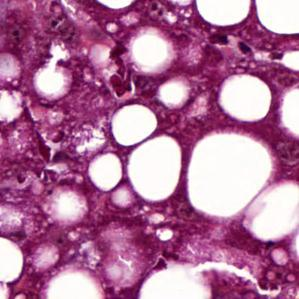steatosis: (218, 72, 273, 121), (109, 102, 157, 147), (196, 0, 253, 28), (256, 0, 299, 35)
